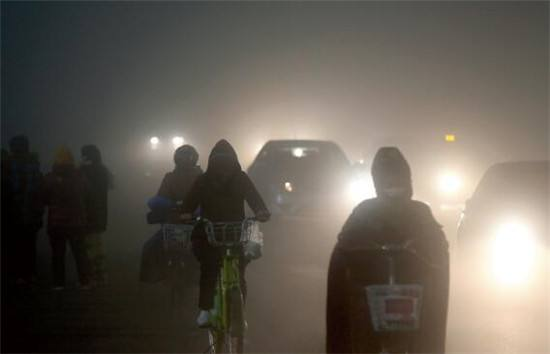person: (326, 144, 447, 354), (183, 139, 273, 353), (147, 144, 210, 306), (39, 145, 89, 291), (74, 142, 116, 292), (6, 135, 42, 283)
